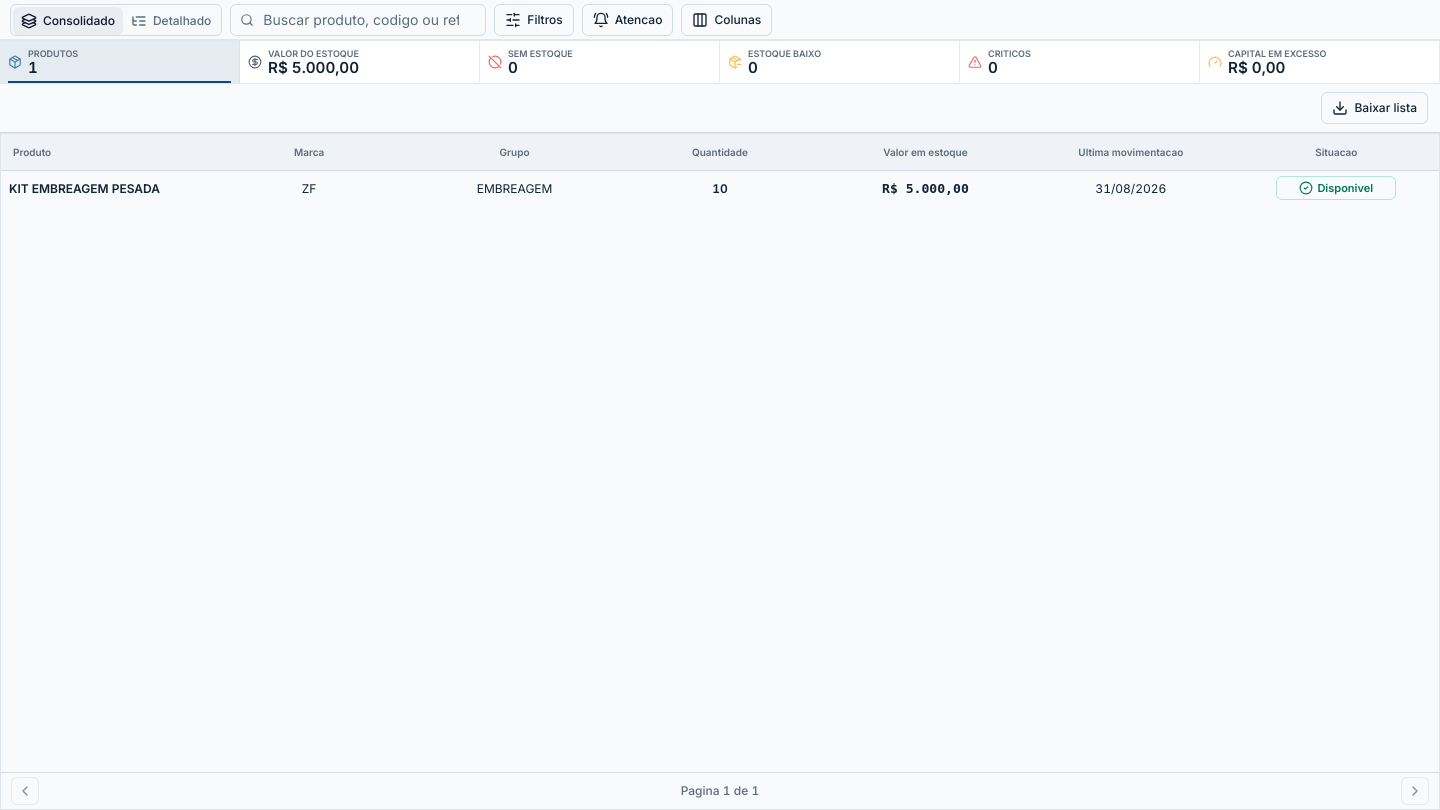
it: EstoqueCommandCenter › mantem listagem e destaques informativos quando nao ha dados de giro
Expected: the text "KIT EMBREAGEM PESADA" is shown, [9,179,160,199]
Click the button with aria-label "Abrir painel de atencao" at (628, 20), box [582,4,673,36]
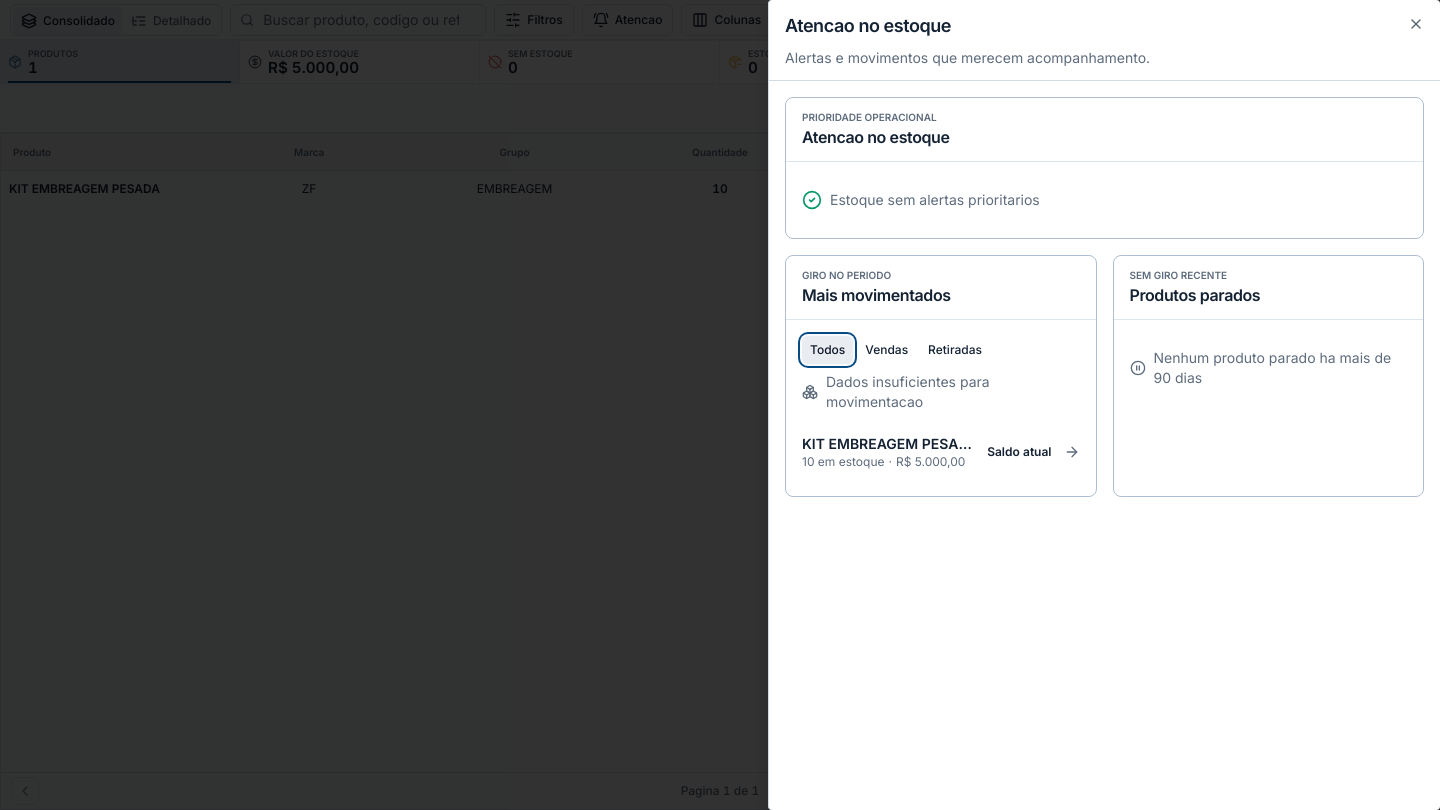
Expected: the text "Dados insuficientes para movimentacao" is shown, [802,373,990,410]
Expected: the text "10 em estoque" is shown, [802,454,884,470]
